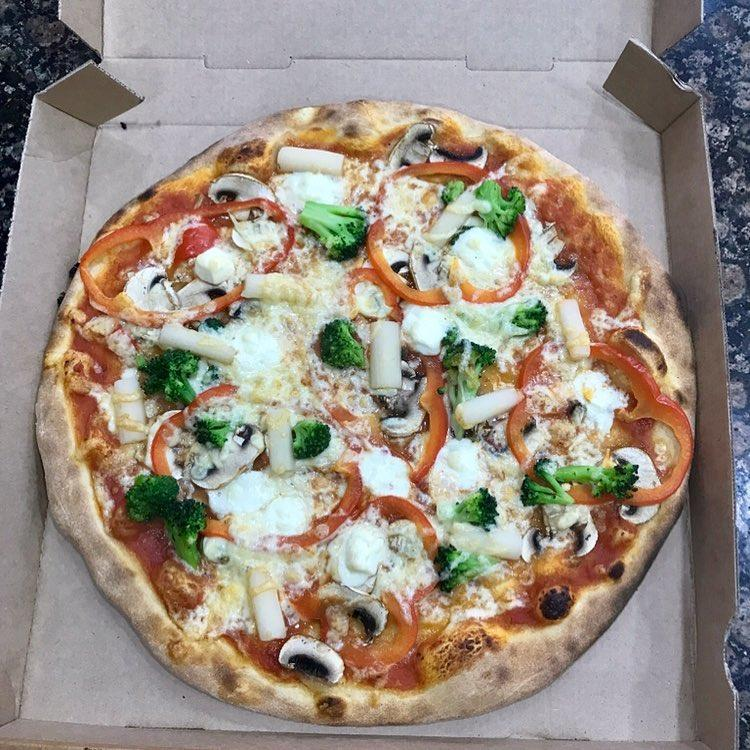Broccoli: (123, 469, 206, 572), (427, 332, 497, 443), (519, 453, 642, 512), (296, 190, 367, 258), (130, 345, 203, 411), (308, 314, 369, 378), (472, 172, 527, 241), (425, 540, 494, 589), (457, 482, 504, 536), (290, 410, 332, 456), (510, 296, 552, 338), (189, 412, 231, 450), (439, 174, 469, 203)
Mushroom: (610, 435, 665, 529), (184, 424, 269, 484), (513, 507, 600, 562), (277, 630, 349, 691), (403, 218, 465, 288), (174, 272, 252, 325), (377, 359, 428, 438), (206, 167, 278, 214), (525, 231, 581, 287), (336, 588, 392, 642), (386, 117, 440, 173), (120, 262, 172, 319), (424, 137, 489, 178)
Peppers: (135, 378, 362, 548), (258, 486, 447, 673), (501, 337, 695, 508), (67, 193, 306, 330), (362, 156, 538, 310), (395, 340, 458, 495), (348, 258, 406, 322)
Pizza: (29, 83, 707, 736)
